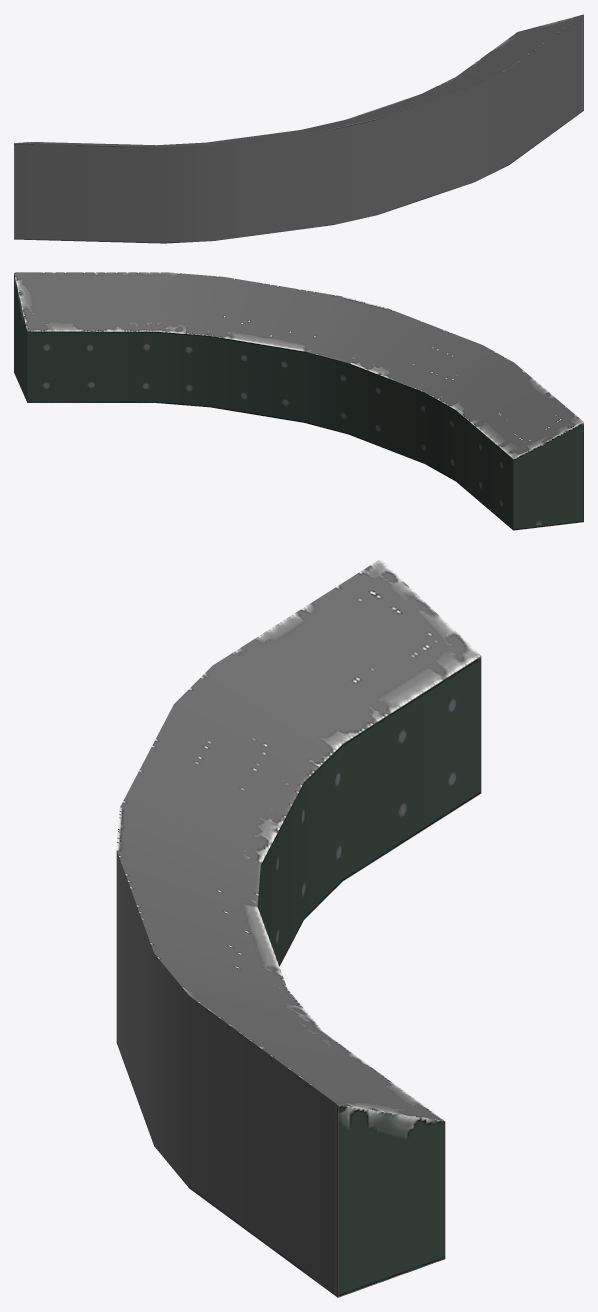
File: control_panel.fbx
3 views of the same model, one above another, from view 1: azimuth 30°, elevation 25°; view 2: azimuth 150°, elevation 25°; view 3: azimuth 270°, elevation 25° (orthographic). The views are drawn at different scales.
Parts seen in each view (by area): view 1: Circle.001; view 2: Circle.001; view 3: Circle.001.
Part boxes in pixels (box(x1,y1,x2,y2)): Circle.001: box(14, 14, 583, 243); Circle.001: box(14, 272, 583, 530); Circle.001: box(116, 559, 481, 1297).
Bounding box in the file's own units: 5387 × 887 × 1521.
Materials: 1 (1 with a texture image).
